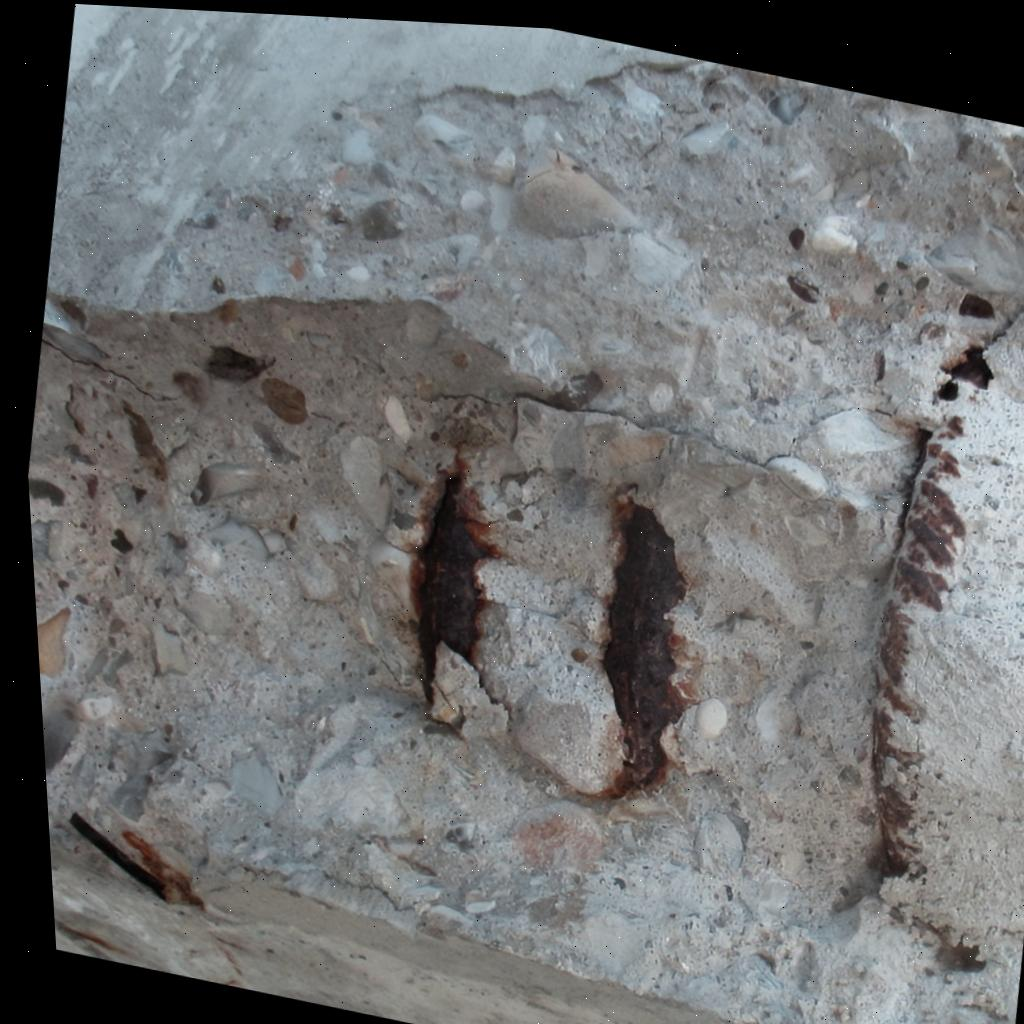exposed_rebar: (603, 503, 685, 793), (414, 475, 492, 699)
